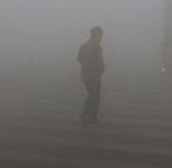person: (77, 26, 108, 126)
